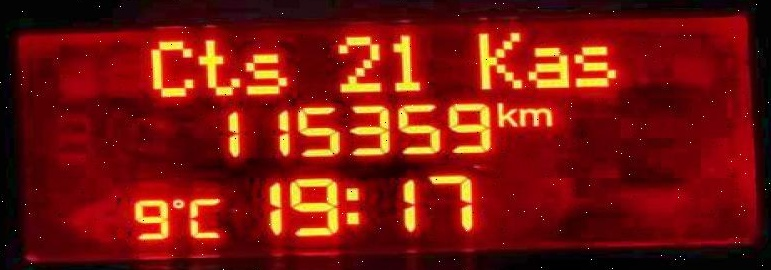1: (387, 33, 422, 92), (396, 176, 418, 231), (263, 180, 284, 236), (221, 106, 241, 159), (271, 108, 291, 157)
2: (333, 34, 383, 93)
3: (347, 103, 392, 157)
5: (395, 101, 443, 155), (293, 104, 341, 158)
7: (423, 172, 475, 233)
9: (290, 175, 340, 236), (445, 100, 492, 154), (129, 196, 171, 241)
X: (143, 36, 198, 100), (472, 27, 525, 90), (194, 36, 243, 99), (568, 43, 617, 89), (522, 44, 569, 89), (241, 49, 286, 96), (186, 196, 223, 239), (339, 185, 363, 226), (517, 107, 555, 127), (493, 100, 515, 127)
